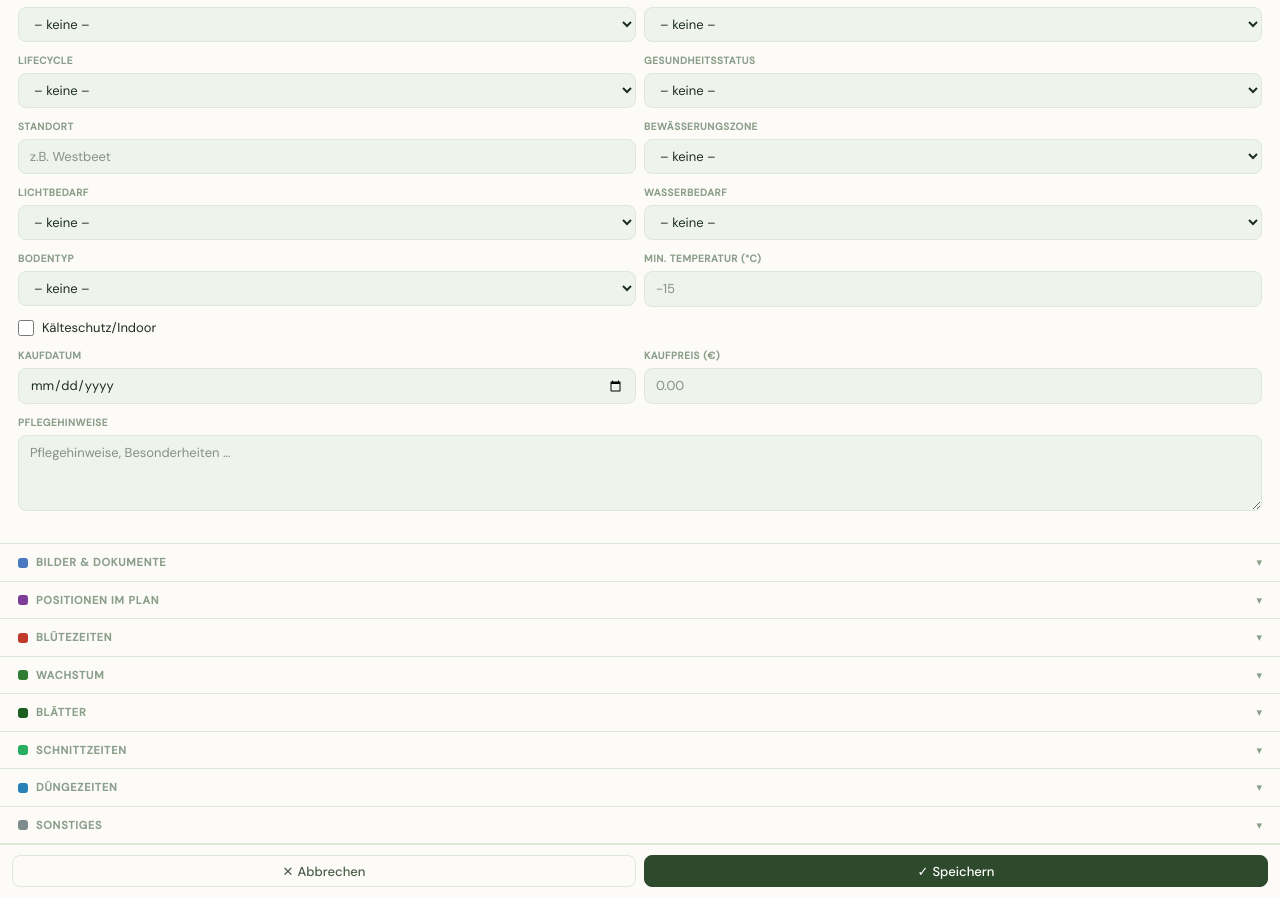
PlantEditDialog — add schedule entry (AC #2) › clicking add-bloom creates a schedule entry with week selects
(page scrolled)
Click the button "Blütezeiten ▾" at [74, 637], box [18,630,1262,644]
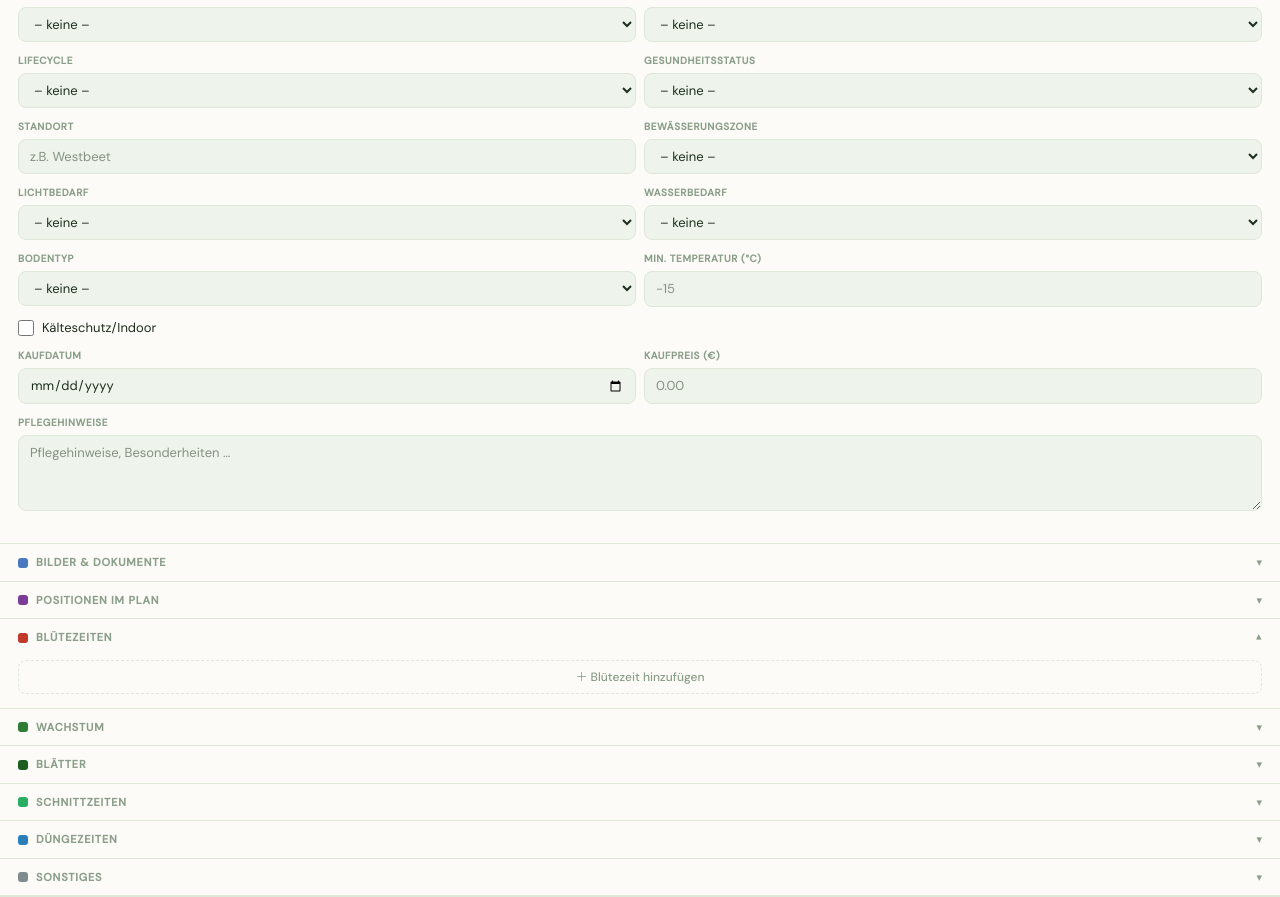
Click the button with test id "add-schedule-bloom" at [640, 677], box [18,660,1262,694]
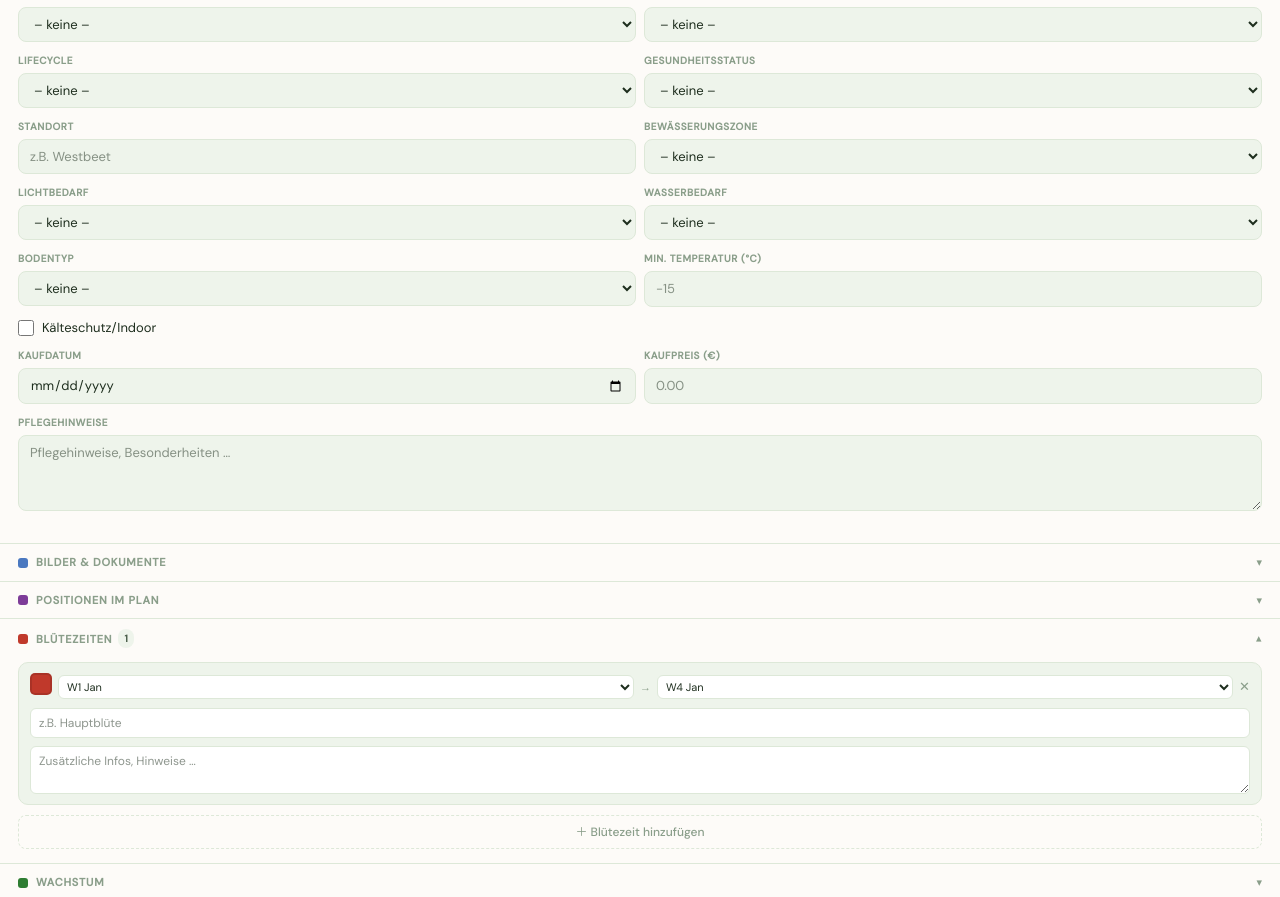
Expected: the number of elements with test id "schedule-entry" is 1, [18,662,1262,805]
Expected: the dropdown with test id "week-start" is shown, [58,675,634,699]
Expected: the dropdown with test id "week-end" is shown, [657,675,1233,699]
